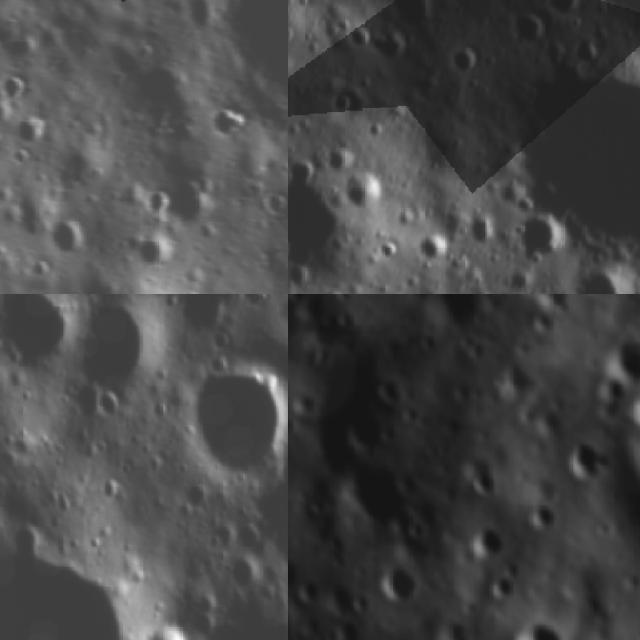crater: (504, 67, 640, 253), (0, 531, 154, 640), (185, 351, 288, 482), (288, 165, 370, 280), (71, 294, 164, 394), (218, 0, 288, 116), (0, 294, 85, 371), (340, 461, 418, 535), (237, 461, 288, 545), (164, 170, 215, 234), (509, 210, 568, 263), (566, 434, 616, 486), (372, 562, 429, 606), (420, 294, 483, 328), (46, 217, 92, 261), (87, 381, 126, 432), (494, 354, 540, 397), (572, 265, 640, 294), (387, 0, 443, 35), (345, 408, 387, 454), (130, 230, 172, 274), (10, 115, 52, 159), (603, 331, 640, 380), (200, 103, 248, 140), (508, 5, 552, 45), (474, 522, 515, 564), (414, 223, 452, 264), (352, 172, 391, 208), (506, 617, 566, 640), (142, 182, 174, 224), (134, 622, 203, 640), (295, 574, 329, 608), (466, 212, 499, 246), (543, 0, 584, 27), (568, 40, 608, 67), (484, 569, 518, 600), (233, 294, 276, 315), (0, 75, 29, 106), (262, 190, 288, 223), (30, 259, 56, 292), (334, 304, 364, 330), (0, 99, 19, 139), (10, 148, 34, 174), (627, 380, 640, 427), (288, 551, 302, 588)
